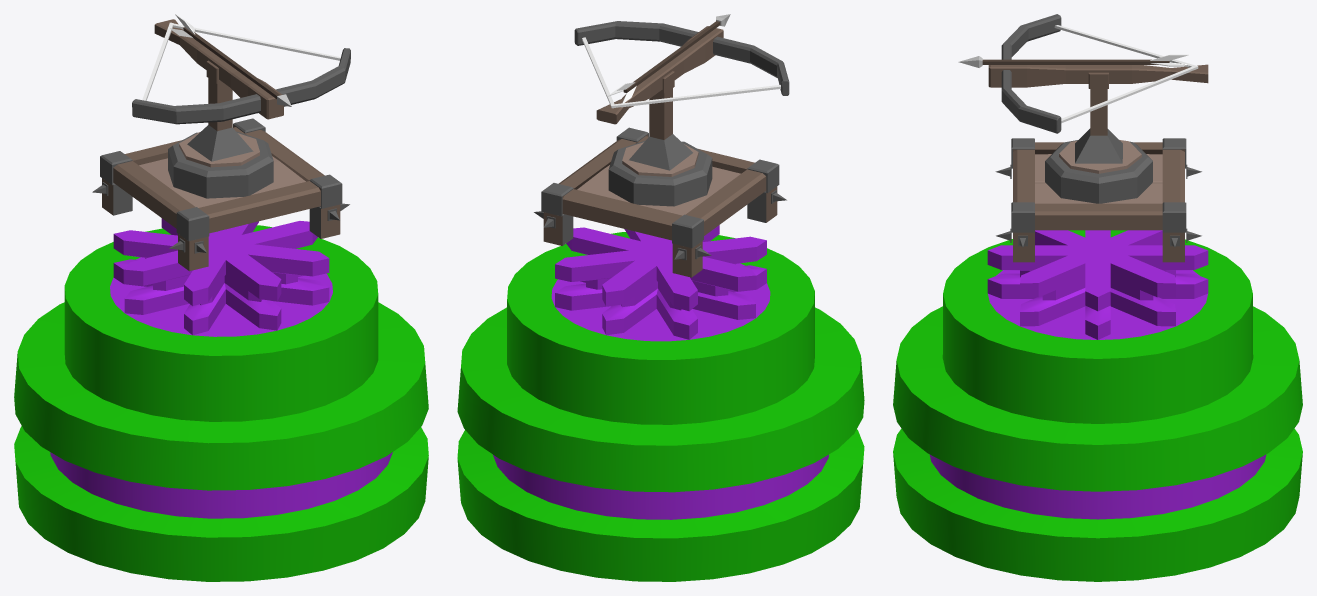
File: ESTRUCTURA_ballesta.fbx
3 views of the same model, side by side, from view 1: azimuth 30°, elevation 25°; view 2: azimuth 150°, elevation 25°; view 3: azimuth 270°, elevation 25° (orthographic).
Visible parts, largest first — view 1: BASE, Flecha, Ariiba_Soporte, Centro_BASE; view 2: BASE, Flecha, Ariiba_Soporte, Centro_BASE; view 3: BASE, Flecha, Ariiba_Soporte, Centro_BASE.
Boxes of the visible parts, box(x1,y1,x2,y2) form: BASE: box(14, 225, 428, 581); Flecha: box(92, 14, 350, 271); Ariiba_Soporte: box(110, 218, 332, 336); Centro_BASE: box(50, 452, 392, 518); BASE: box(457, 232, 864, 581); Flecha: box(534, 14, 789, 277); Ariiba_Soporte: box(551, 225, 770, 341); Centro_BASE: box(492, 454, 828, 519); BASE: box(893, 230, 1302, 581); Flecha: box(958, 14, 1208, 262); Ariiba_Soporte: box(987, 230, 1208, 339); Centro_BASE: box(929, 454, 1266, 519).
Size of the model in its own units: 631 by 750 by 631.
